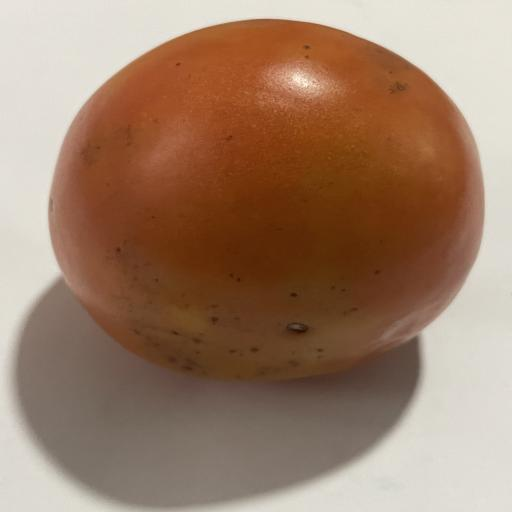ripe: (49, 20, 483, 380)
